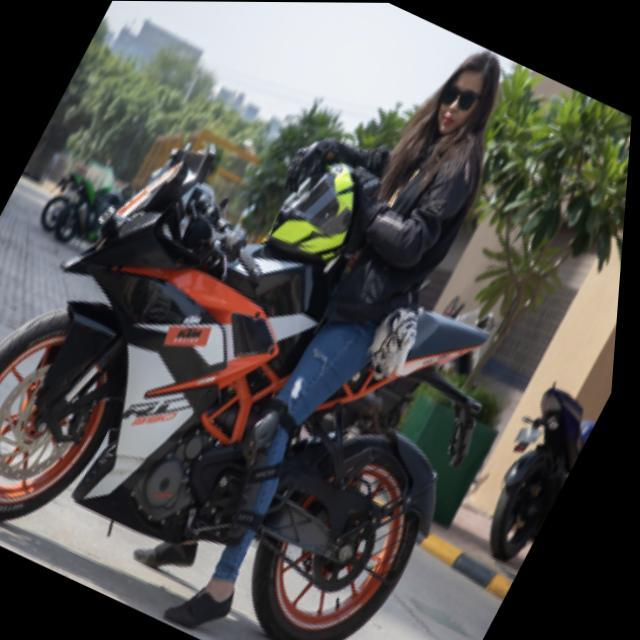Nonhelmet: (414, 49, 514, 152)
